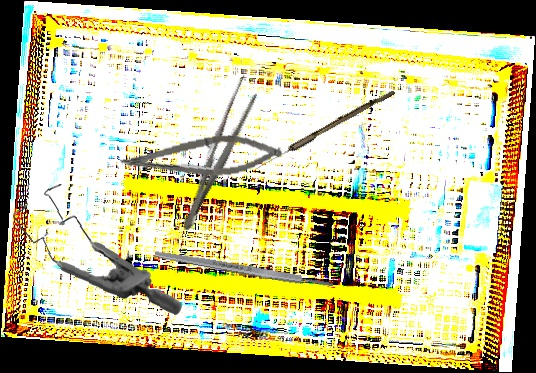Dressing Forceps: (174, 72, 264, 237)
Micro Scissor: (118, 128, 284, 189)
Scalpel Handle: (154, 248, 334, 291)
Speculum: (4, 180, 191, 316)
Surgical Spoon: (253, 86, 396, 174)
